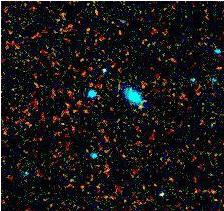star: (122, 95, 152, 125)
